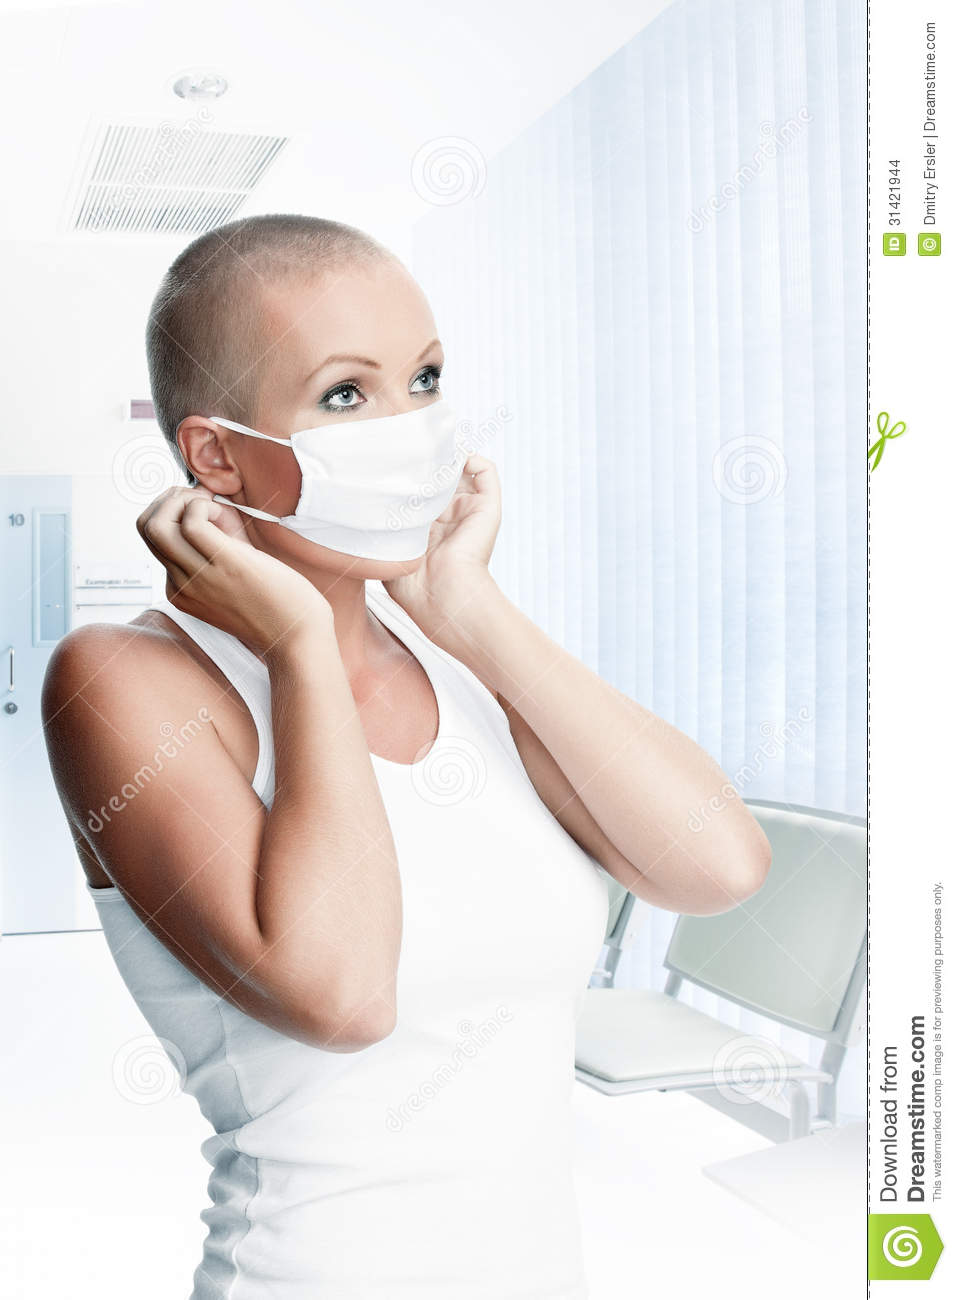mask: (284, 417, 482, 595)
